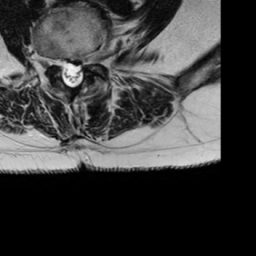CCS_normal: (69, 55, 76, 92)
LFS_normal: (84, 45, 94, 72)
LLS_normal: (76, 57, 84, 87)
RFS_stenosis: (51, 50, 60, 73)
RLS_normal: (61, 55, 69, 90)
